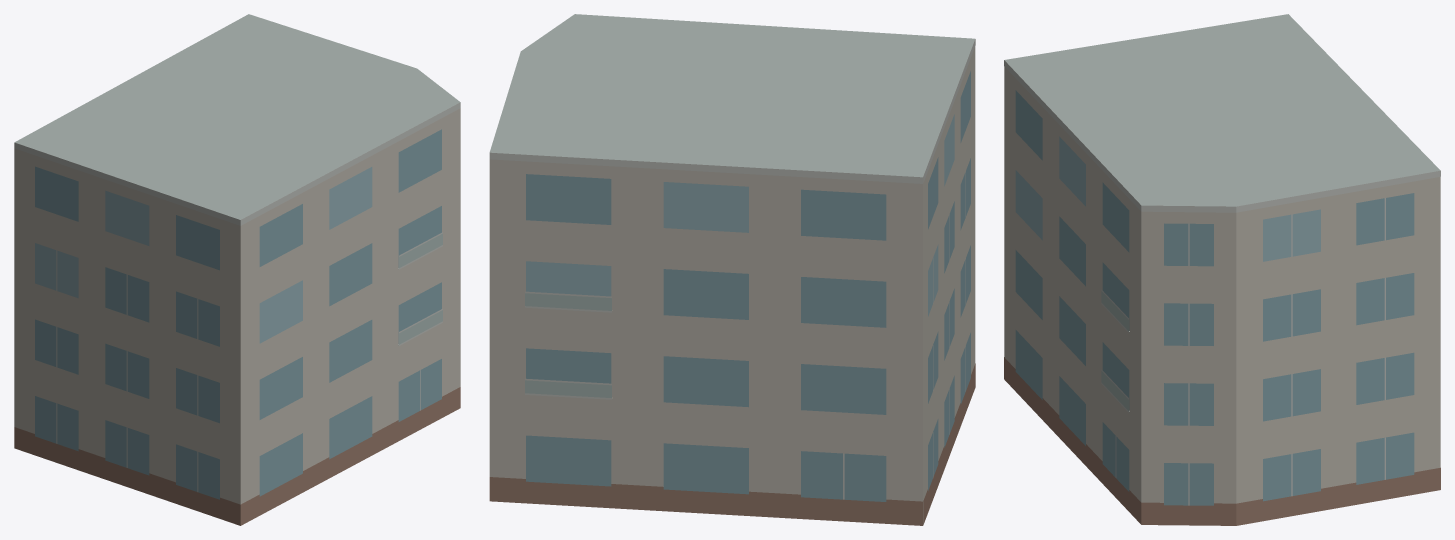
File: survey-upis-32762329.glb
The picture shows the model from 3 angles, left to right: view 1: azimuth 30°, elevation 25°; view 2: azimuth 150°, elevation 25°; view 3: azimuth 270°, elevation 25°; orthographic projection. The views are drawn at different scales.
Visible parts, largest first — view 1: survey-upis-32762329.tmp; view 2: survey-upis-32762329.tmp; view 3: survey-upis-32762329.tmp.
Boxes of the visible parts, x1,y1,x2,y2 form: survey-upis-32762329.tmp: (14,14,460,525); survey-upis-32762329.tmp: (489,14,975,525); survey-upis-32762329.tmp: (1004,14,1440,525).
Size of the model in its own units: 16.43 by 12.7 by 15.75.
